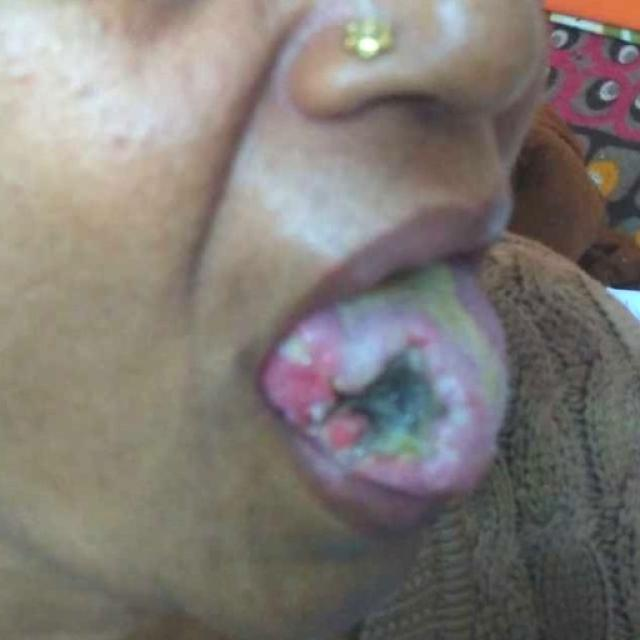cancer-detection: (259, 286, 498, 492)
processing_area: (251, 258, 510, 501)
